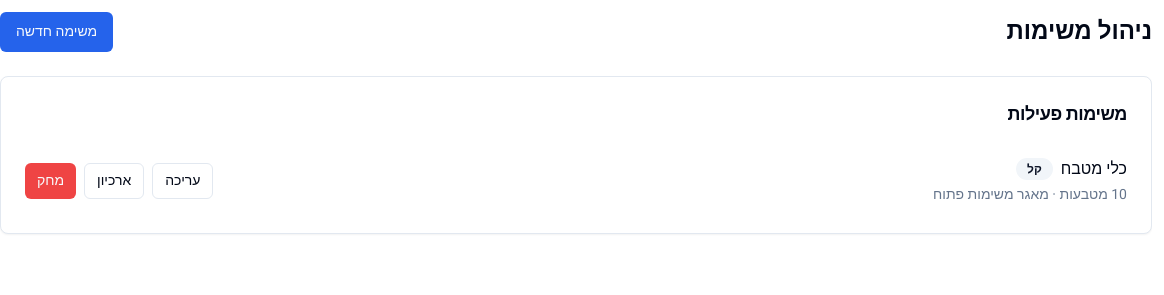
ChoresPage › shows error message when archive mutation fails
Step 1. Click the button "ארכיון" → (114, 181), box [84,163,144,199]
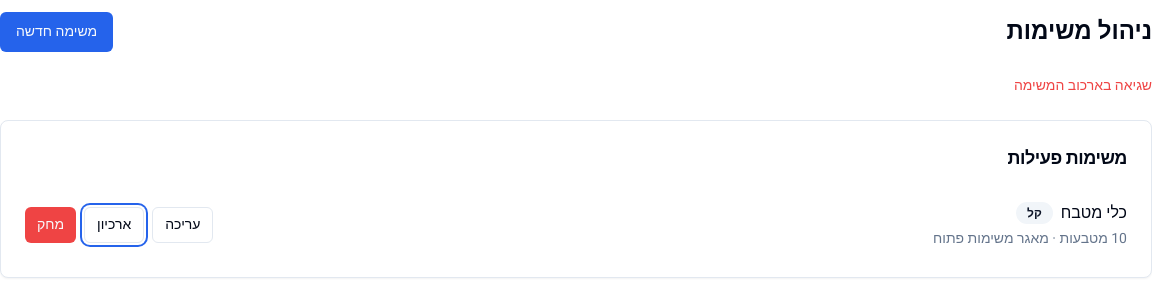
Expected: the message reads "שגיאה בארכוב המשימה", [1014,75,1152,96]
